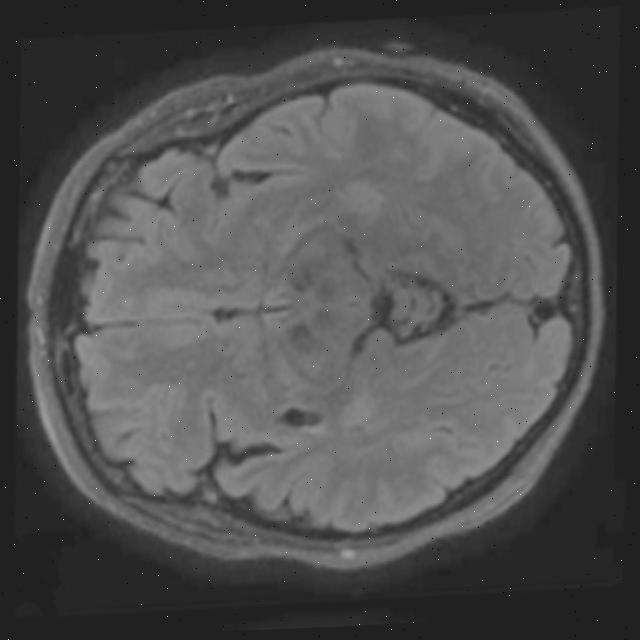NoTumor: (11, 28, 614, 592)
